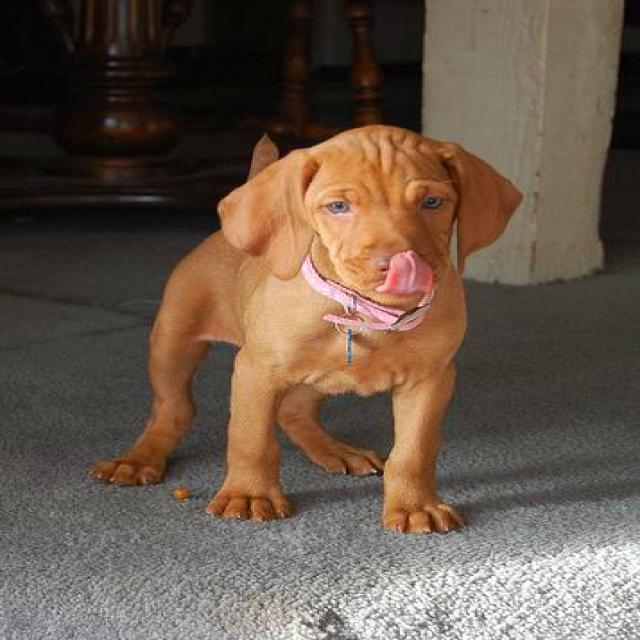vizsla: (86, 123, 527, 537)
